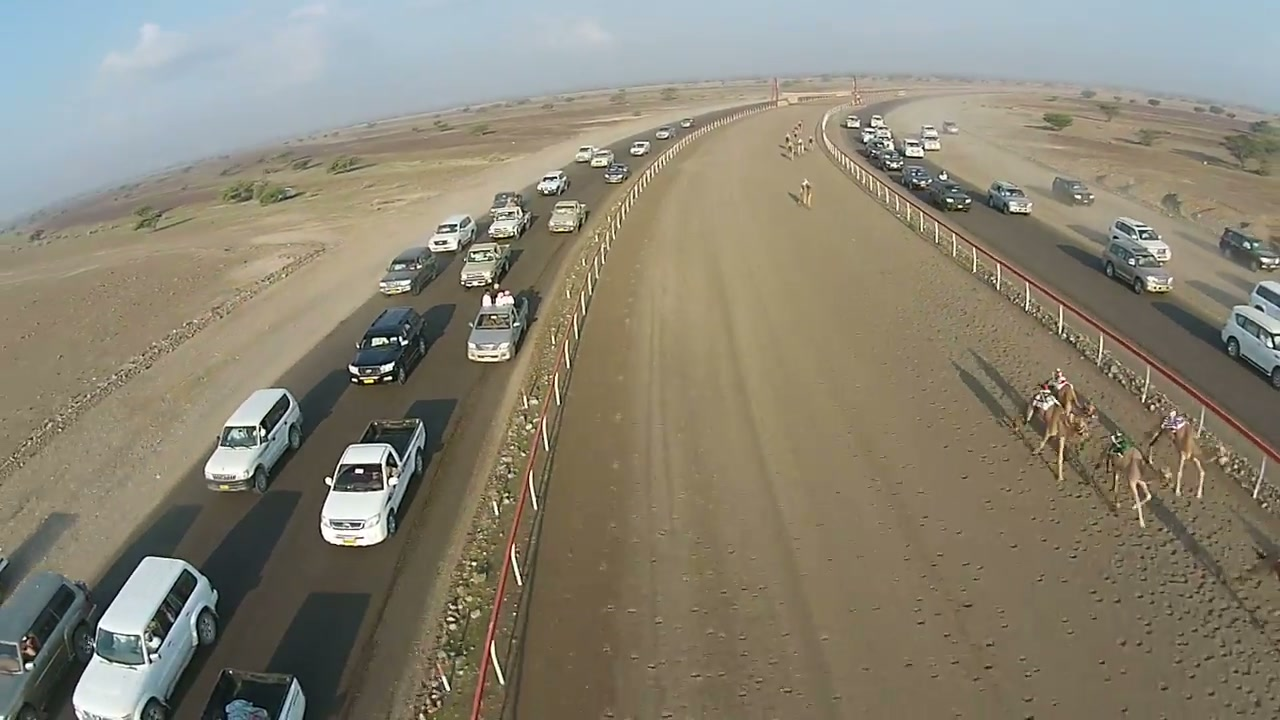animal_foot_print: (1020, 484, 1279, 708)
